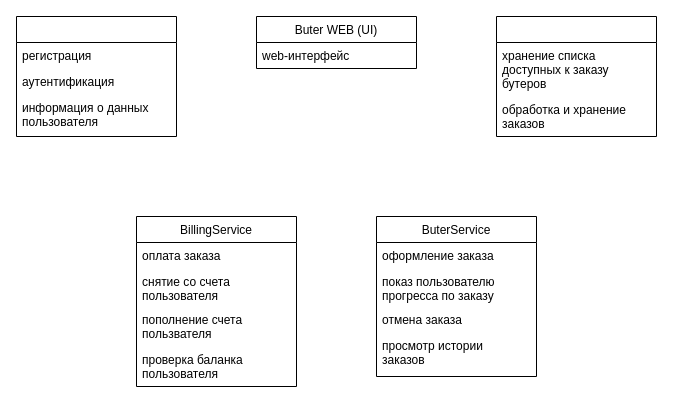
The diagram is 673 pixels wide and 403 high, and some of its shapes have lost their labels. Each missing label, with the box of its shape:
AuthService: (16, 16, 176, 136)
OrderService: (496, 16, 656, 136)
